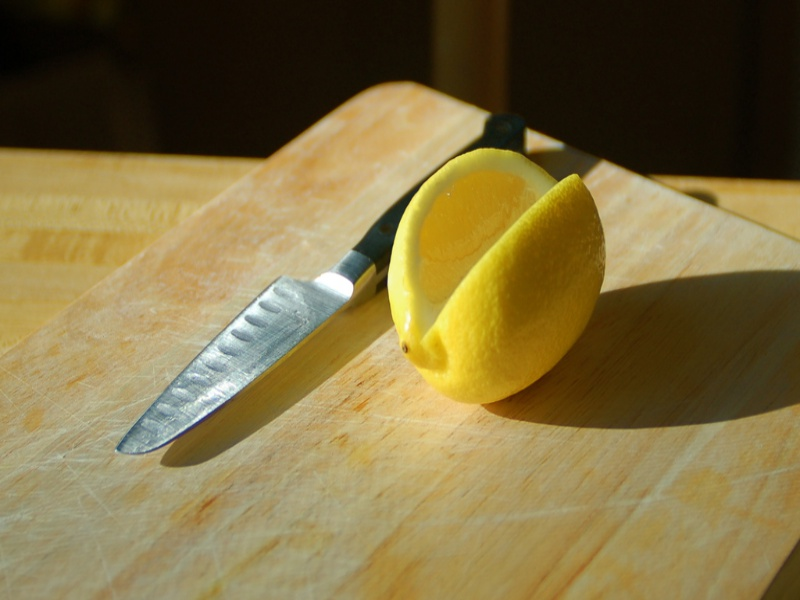knife: (110, 265, 373, 464)
